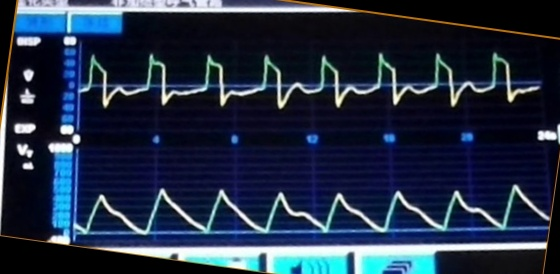Premature_cycling Flow: (81, 42, 540, 126)
Premature_cycling Volume: (78, 168, 546, 236)
